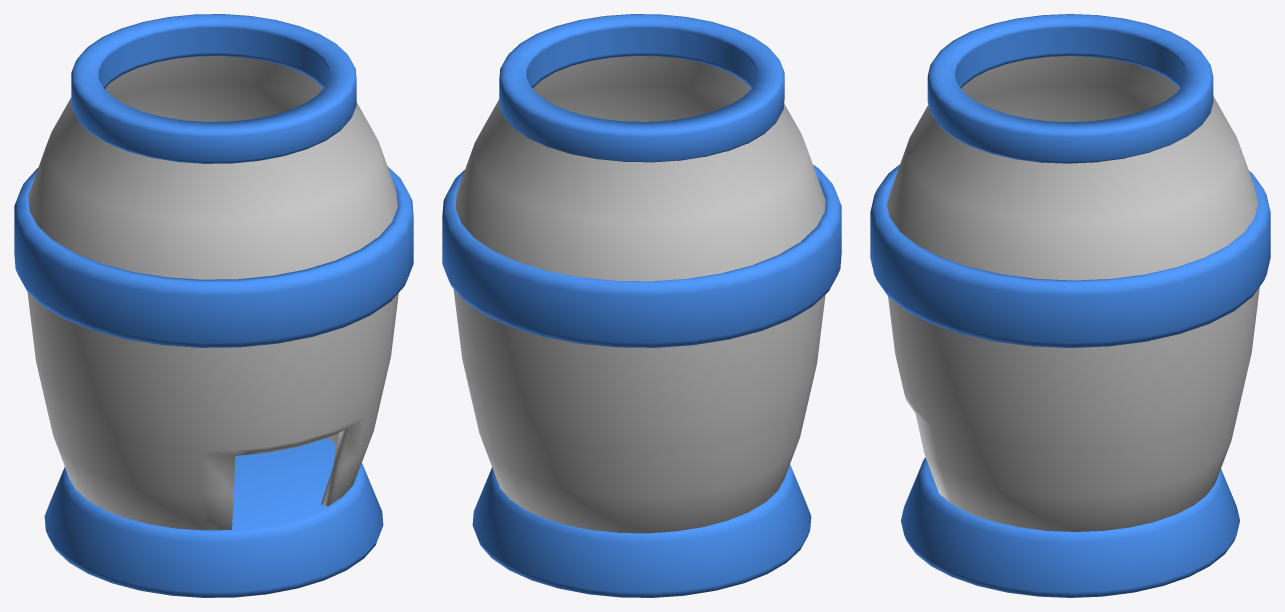
The model's file is Lab_Mixer.fbx.
3 renders of one model, left to right at view 1: azimuth 30°, elevation 25°; view 2: azimuth 150°, elevation 25°; view 3: azimuth 270°, elevation 25°, orthographic.
Parts seen in each view (by area): view 1: Lab_Mixer; view 2: Lab_Mixer; view 3: Lab_Mixer.
Boxes of the visible parts, <box> form: Lab_Mixer: <box>14,14,413,597</box>; Lab_Mixer: <box>442,14,841,597</box>; Lab_Mixer: <box>870,14,1270,597</box>.
Bounding box in the file's own units: 13.69 × 17.65 × 13.69.
